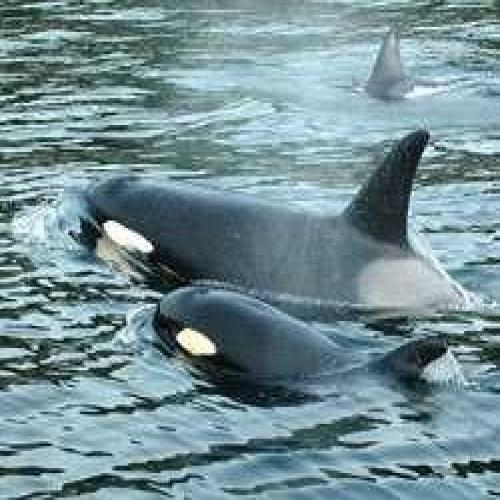killer_whale-endangered: (71, 135, 486, 330), (136, 261, 456, 417), (347, 27, 432, 97)
